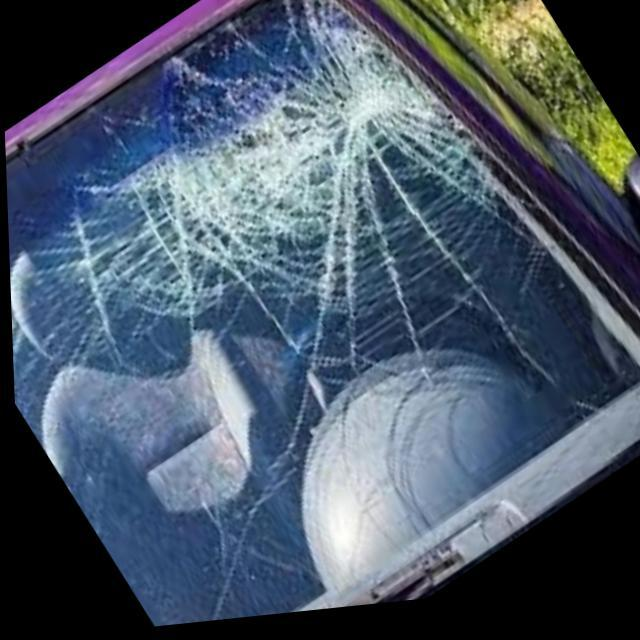glass shatter: (167, 43, 457, 306)
